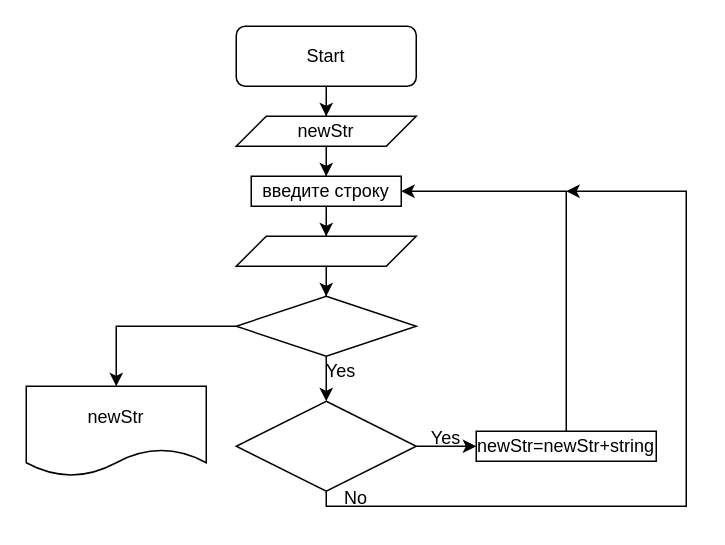
Image size: 725x545. Some labels were removed from this diagram. Each missing label, with the centre of its shape:
String: point (325, 250)
String.length<3?: point (325, 445)
String>""?: point (325, 325)
